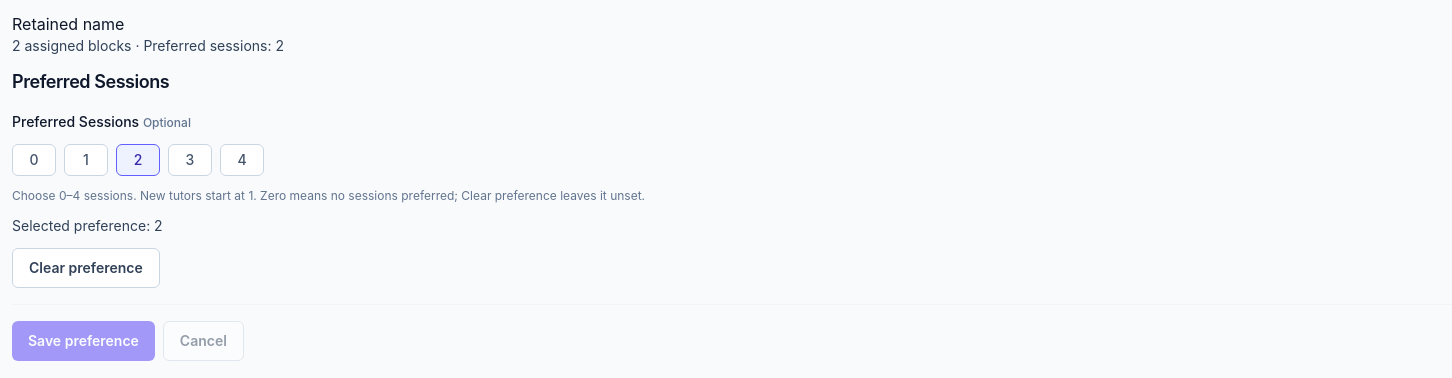
Test: conceals and evicts revoked preference reads without an automatic retry loop
This screenshot has width=1452, height=378.
Expected: the element named "Preferred session choices" is shown, x1=12 y1=144 x2=264 y2=176
Step 1. Click the button "4" → [242, 160], box x1=220 y1=144 x2=264 y2=176
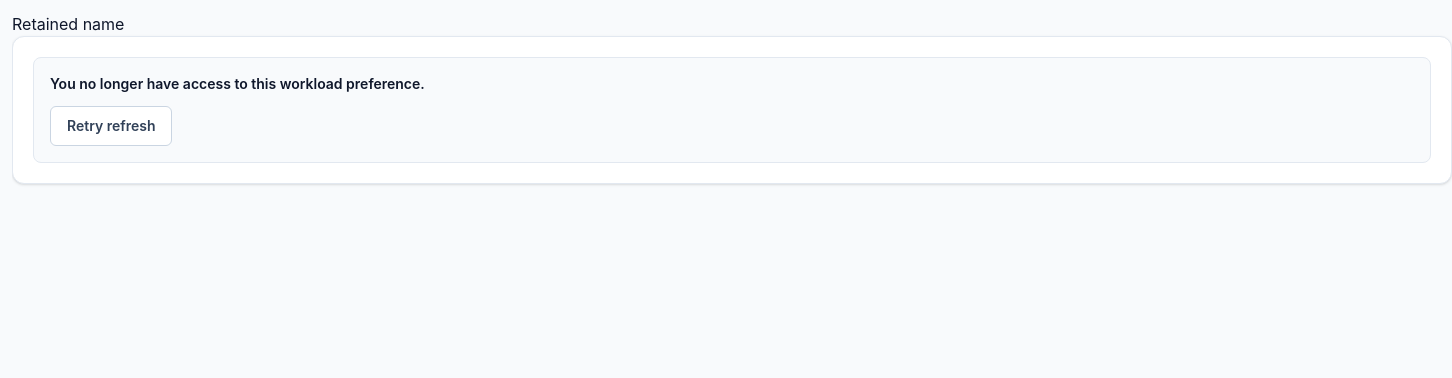
Result: the heading "You no longer have access to this workload preference." is shown at x1=50 y1=75 x2=425 y2=92
